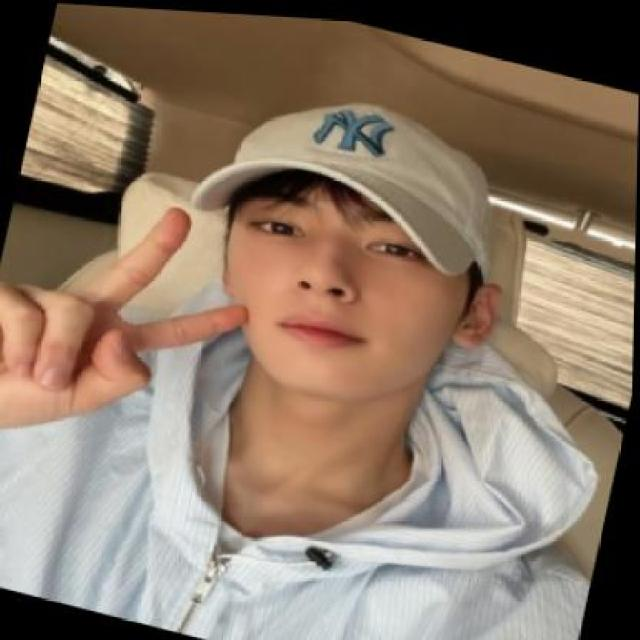hat: (186, 54, 532, 288)
